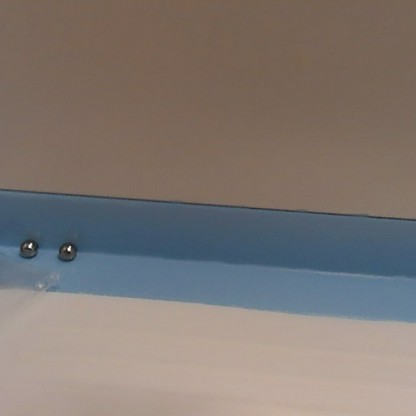ironball: (53, 237, 76, 262), (16, 236, 40, 259)
